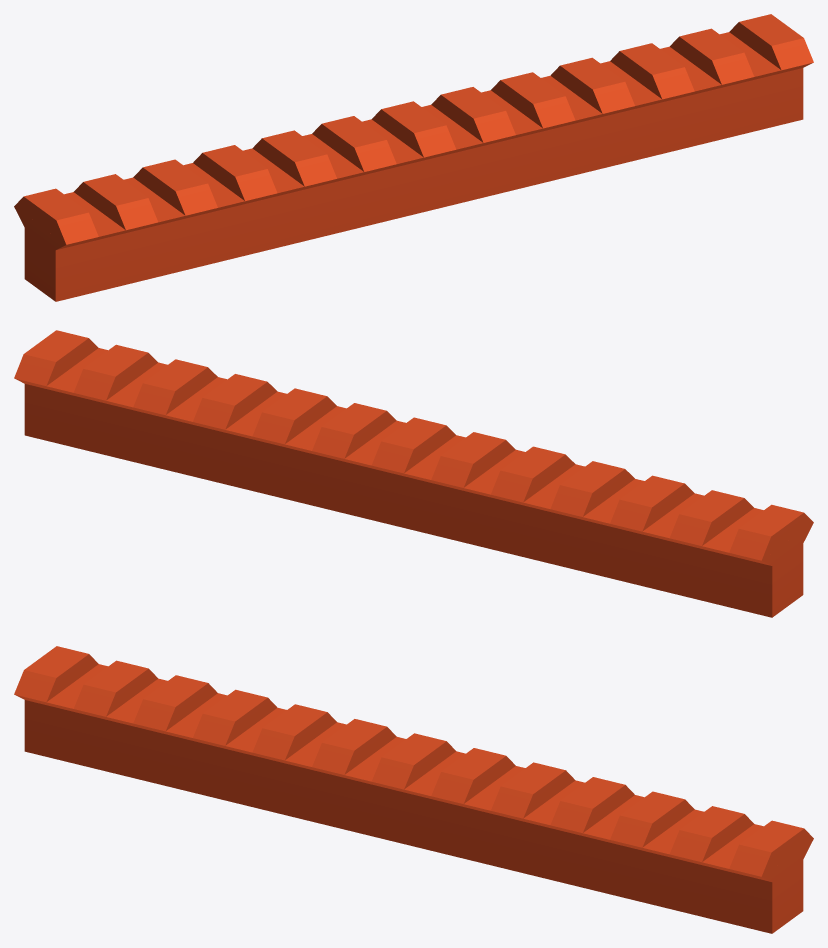
The model's file is Bar_02.fbx.
The picture shows the model from 3 angles, top to bottom: view 1: azimuth 30°, elevation 25°; view 2: azimuth 150°, elevation 25°; view 3: azimuth 330°, elevation 25°; orthographic projection.
Visible parts, largest first — view 1: Bar_02; view 2: Bar_02; view 3: Bar_02.
Boxes of the visible parts, left/top/right/bottom form: Bar_02: left=14, top=14, right=813, bottom=301; Bar_02: left=14, top=330, right=813, bottom=617; Bar_02: left=14, top=646, right=813, bottom=933.
Bounding box in the file's own units: 21.43 × 2.24 × 2.6.
